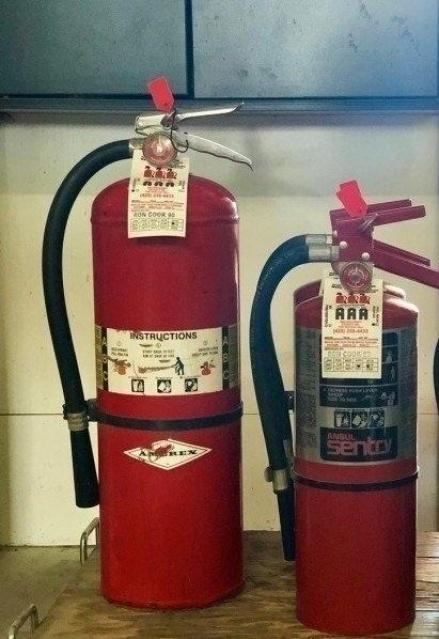APAR: (90, 103, 254, 608), (292, 204, 438, 635)
